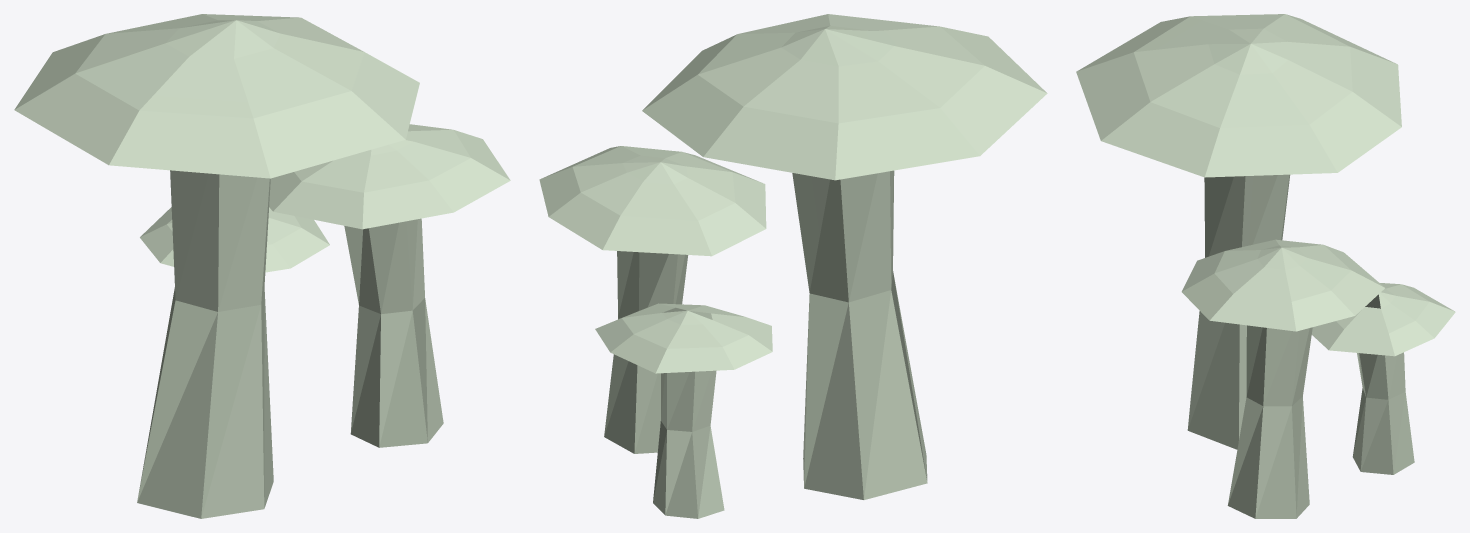
The model's file is cave-mushroom2.glb.
3 renders of one model, left to right at view 1: azimuth 30°, elevation 25°; view 2: azimuth 150°, elevation 25°; view 3: azimuth 270°, elevation 25°, orthographic. The views are drawn at different scales.
Parts seen in each view (by area): view 1: BlueBolete_Patch_A; view 2: BlueBolete_Patch_A; view 3: BlueBolete_Patch_A.
Boxes of the visible parts, <box> form: BlueBolete_Patch_A: <box>14,14,510,518</box>; BlueBolete_Patch_A: <box>539,14,1047,518</box>; BlueBolete_Patch_A: <box>1076,14,1455,518</box>.
Size of the model in its own units: 1.11 by 1.06 by 0.9233.
